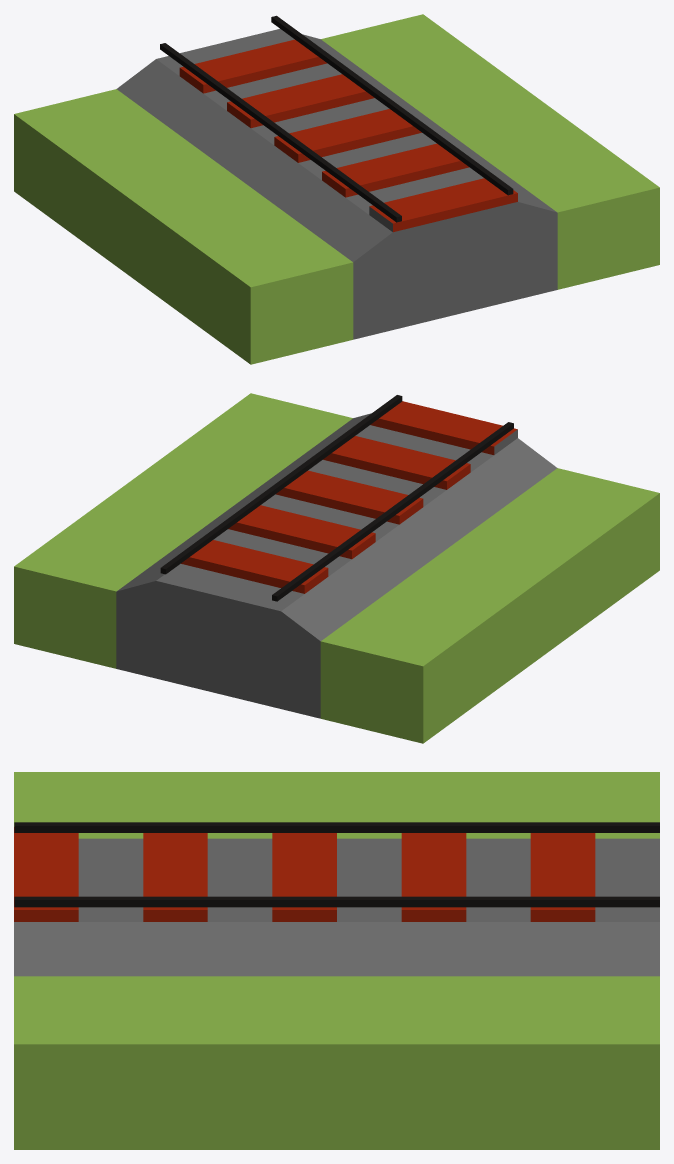
The model's file is trainkitStraightFlat.obj.
3 renders of one model, top to bottom at view 1: azimuth 30°, elevation 25°; view 2: azimuth 150°, elevation 25°; view 3: azimuth 270°, elevation 25°, orthographic. The views are drawn at different scales.
Visible parts, largest first — view 1: TrainTrack001_Cube; view 2: TrainTrack001_Cube; view 3: TrainTrack001_Cube.
Boxes of the visible parts, x1,y1,x2,y2 form: TrainTrack001_Cube: (14,14,659,364); TrainTrack001_Cube: (14,393,659,743); TrainTrack001_Cube: (14,772,659,1149).
Bounding box in the file's own units: 0.9977 × 0.2602 × 1.
